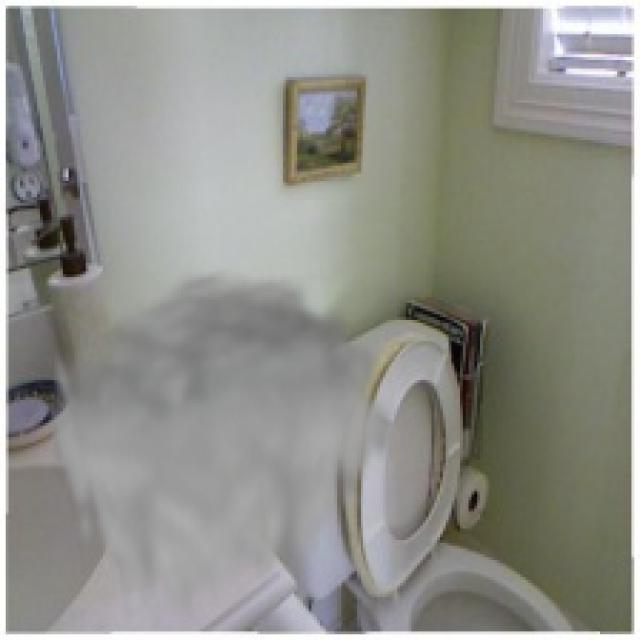smoke: (46, 263, 400, 631)
